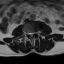CCS_stenosis: (30, 31, 32, 38)
LFS_stenosis: (34, 31, 36, 35)
LLS_stenosis: (32, 31, 34, 36)
RFS_stenosis: (26, 31, 28, 35)
RLS_stenosis: (28, 31, 30, 36)
